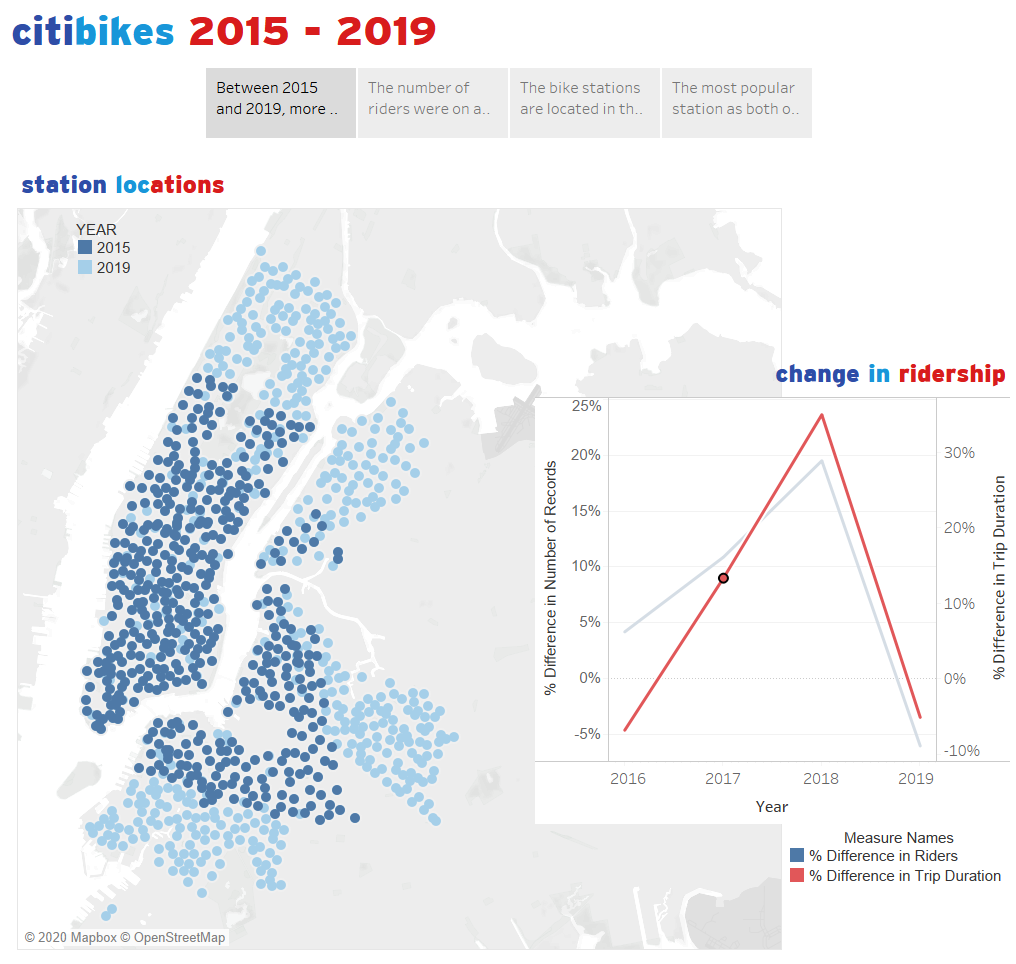

Layout of this report page (visuals, bound fields, positions):
{"tool":"tableau","page":{"name":"Change Over Time","canvas":[1000,800],"ordinal":0},"visuals":[{"type":"worksheet","title":"Station Locations","mark":"Automatic","rows":["Start Station Latitude"],"cols":["Start Station Longitude"],"box":[9,10,765,786]},{"type":"legend","title":"Station Locations","param":"[federated.0l7144t07mxnfd13n5uxi18084pq].[yr:Start Time:ok]","box":[67,65,131,85]},{"type":"worksheet","title":"Ridership","mark":"Automatic","cols":["Start Time"],"box":[527,199,475,472]},{"type":"legend","title":"Ridership","param":"[federated.0l7144t07mxnfd13n5uxi18084pq].[:Measure Names]","box":[779,673,222,81]}]}

Visuals, with their boxes on the page's 1000x800 design canvas (x1, y1, x2, y2). These are canvas units, not pixel positions in the 1016x964 screenshot, which may show the page scaled, cropped or inside an application window:
"Station Locations" worksheet: (9, 10, 774, 796)
"Station Locations" legend: (67, 65, 198, 150)
"Ridership" worksheet: (527, 199, 1002, 671)
"Ridership" legend: (779, 673, 1001, 754)
